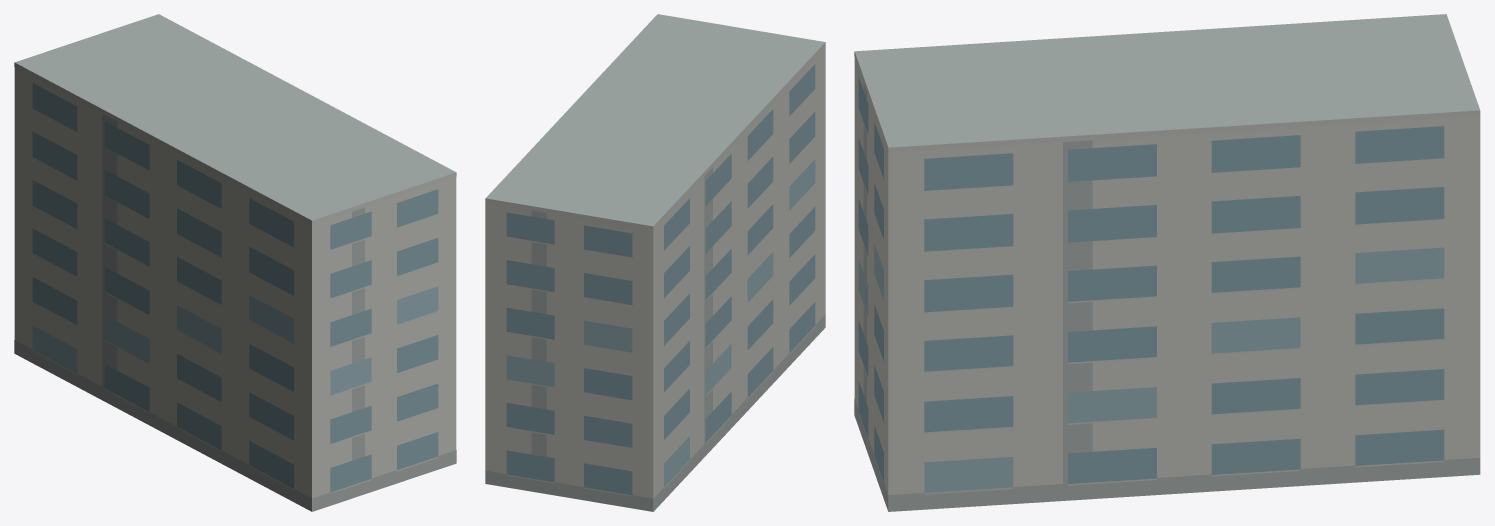
Rendered from survey-upis-32576662.glb.
3 renders of one model, left to right at view 1: azimuth 30°, elevation 25°; view 2: azimuth 150°, elevation 25°; view 3: azimuth 270°, elevation 25°, orthographic. The views are drawn at different scales.
Parts seen in each view (by area): view 1: survey-upis-32576662.tmp; view 2: survey-upis-32576662.tmp; view 3: survey-upis-32576662.tmp.
Part boxes in pixels (x1,y1,x2,y2): survey-upis-32576662.tmp: (14, 14, 456, 511); survey-upis-32576662.tmp: (485, 14, 825, 511); survey-upis-32576662.tmp: (854, 14, 1480, 511).
Bounding box in the file's own units: 12.59 × 16 × 24.92.
